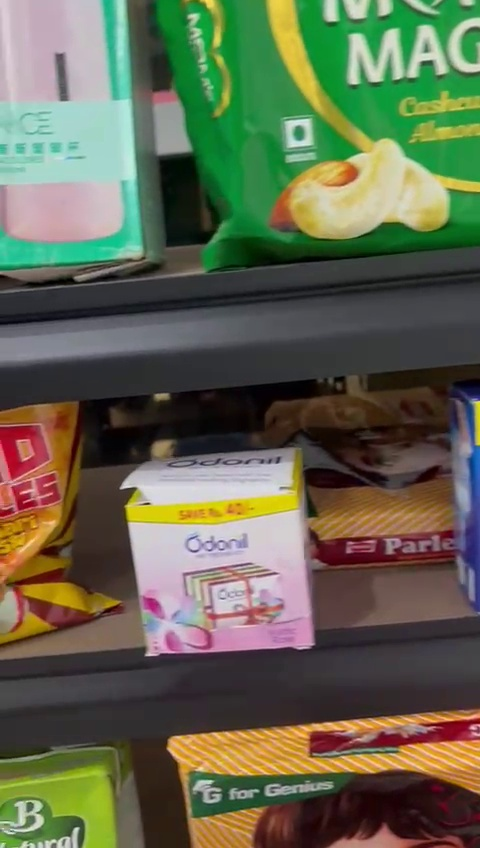Odonil: (131, 454, 319, 668)
